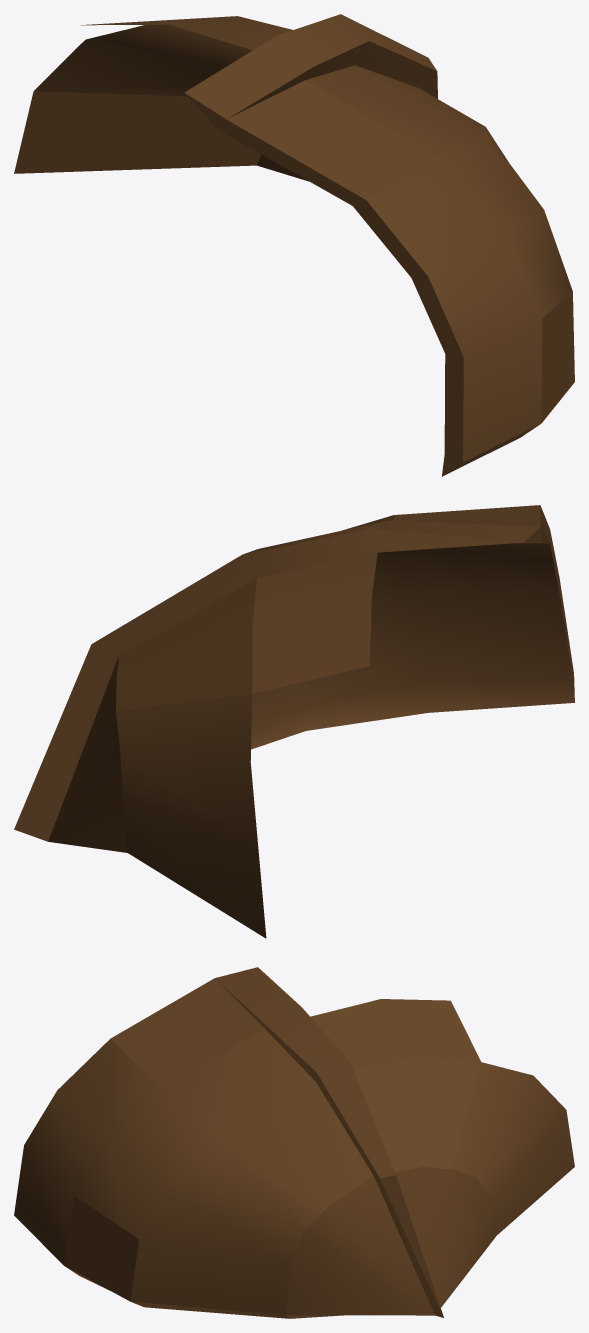
The model's file is boat_bg.fbx.
The picture shows the model from 3 angles, top to bottom: view 1: azimuth 30°, elevation 25°; view 2: azimuth 150°, elevation 25°; view 3: azimuth 270°, elevation 25°; orthographic projection. The views are drawn at different scales.
Visible parts, largest first — view 1: polySurface3; view 2: polySurface3; view 3: polySurface3.
Part boxes in pixels (left/top/right/bottom): polySurface3: left=14, top=14, right=574, bottom=476; polySurface3: left=14, top=505, right=574, bottom=938; polySurface3: left=14, top=967, right=574, bottom=1318.
Size of the model in its own units: 0.8425 by 0.676 by 1.44.
